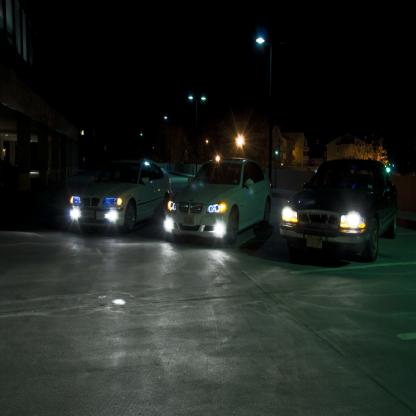Car: (277, 155, 403, 265), (161, 155, 275, 242), (68, 163, 174, 232)
